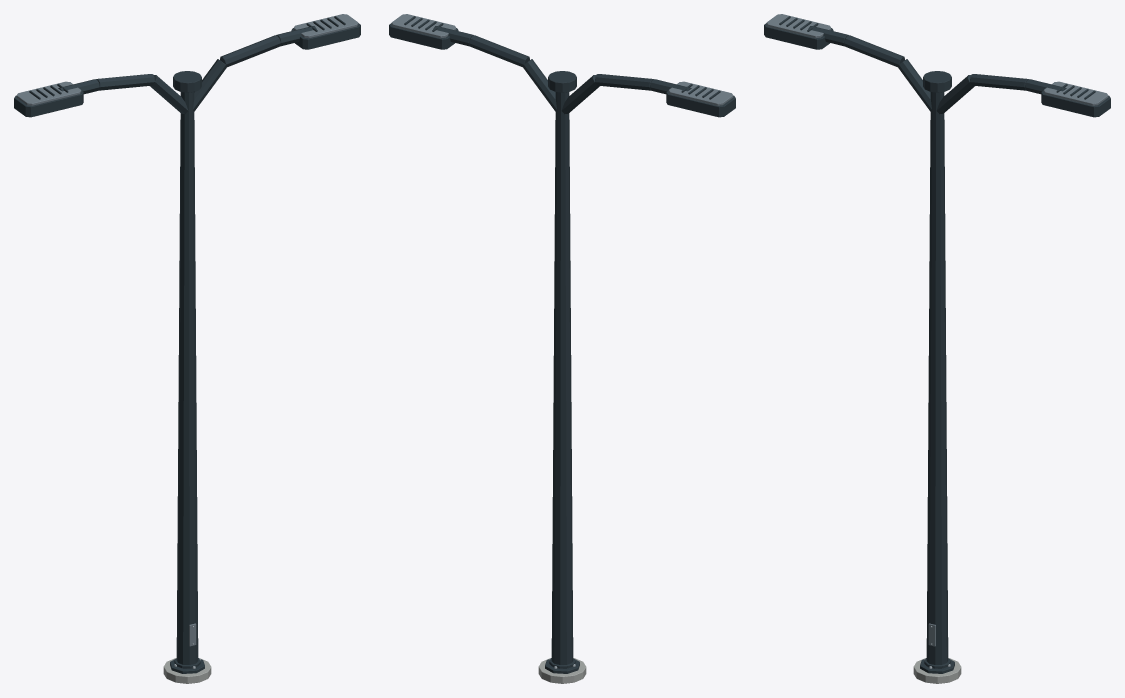
The model's file is b18_double_arm_boulevard_light.glb.
3 views of the same model, side by side, from view 1: azimuth 30°, elevation 25°; view 2: azimuth 150°, elevation 25°; view 3: azimuth 330°, elevation 25° (orthographic).
Parts seen in each view (by area): view 1: b18_double_arm_boulevard_light; view 2: b18_double_arm_boulevard_light; view 3: b18_double_arm_boulevard_light.
Part boxes in pixels (x1,y1,x2,y2): b18_double_arm_boulevard_light: [14, 14, 360, 683]; b18_double_arm_boulevard_light: [389, 14, 735, 683]; b18_double_arm_boulevard_light: [764, 14, 1110, 683].
Bounding box in the file's own units: 4.26 × 7.49 × 0.528.
